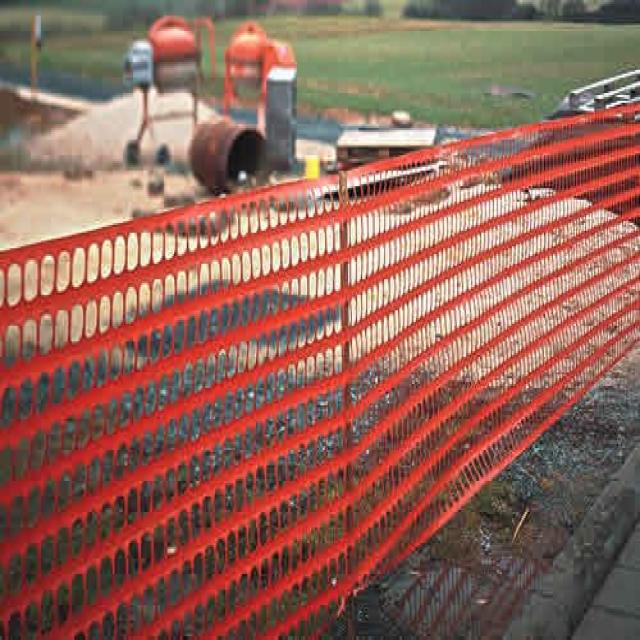cone: (0, 87, 640, 640)
